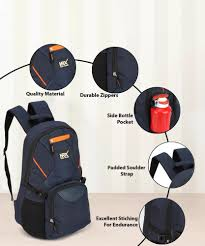backpack: (3, 100, 91, 239)
